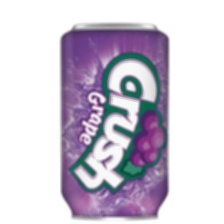can: (50, 17, 172, 222)
